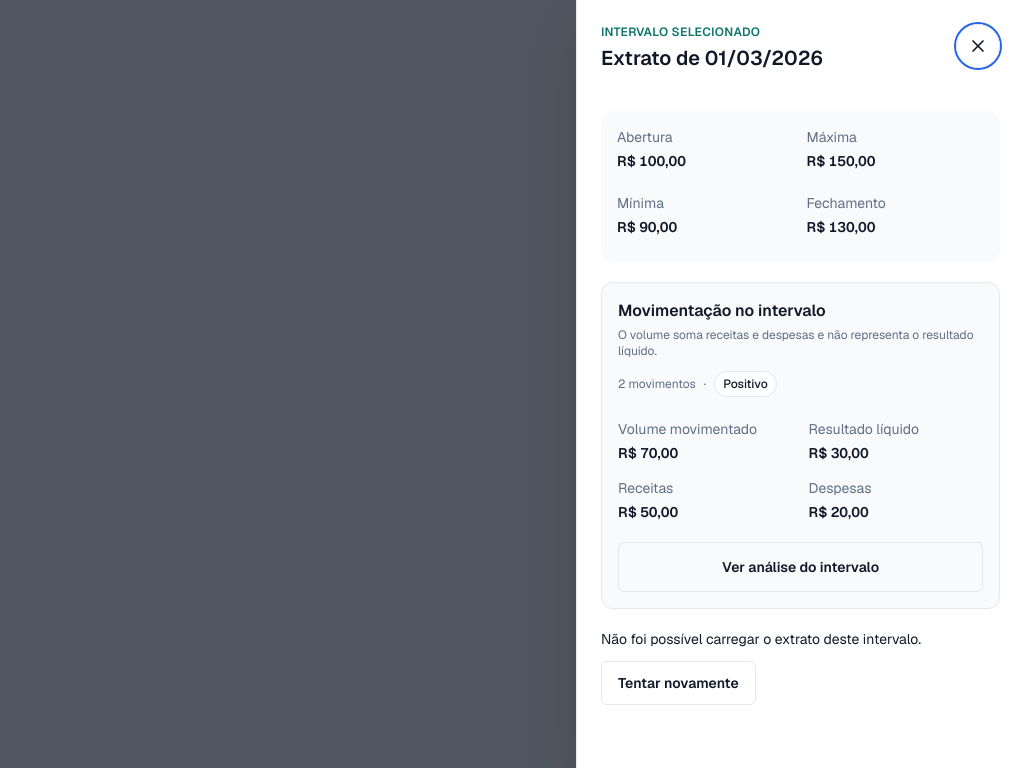
Test: FinancialIntervalStatementPanel › retries an unavailable statement without closing the selected interval
The width and height of the screenshot is (1024, 768).
Expected: the message shows "Não foi possível carregar o extrato deste intervalo.", [601,630,921,648]
Step 1. Click the button "Tentar novamente" → point(678, 683), box [601,661,756,705]
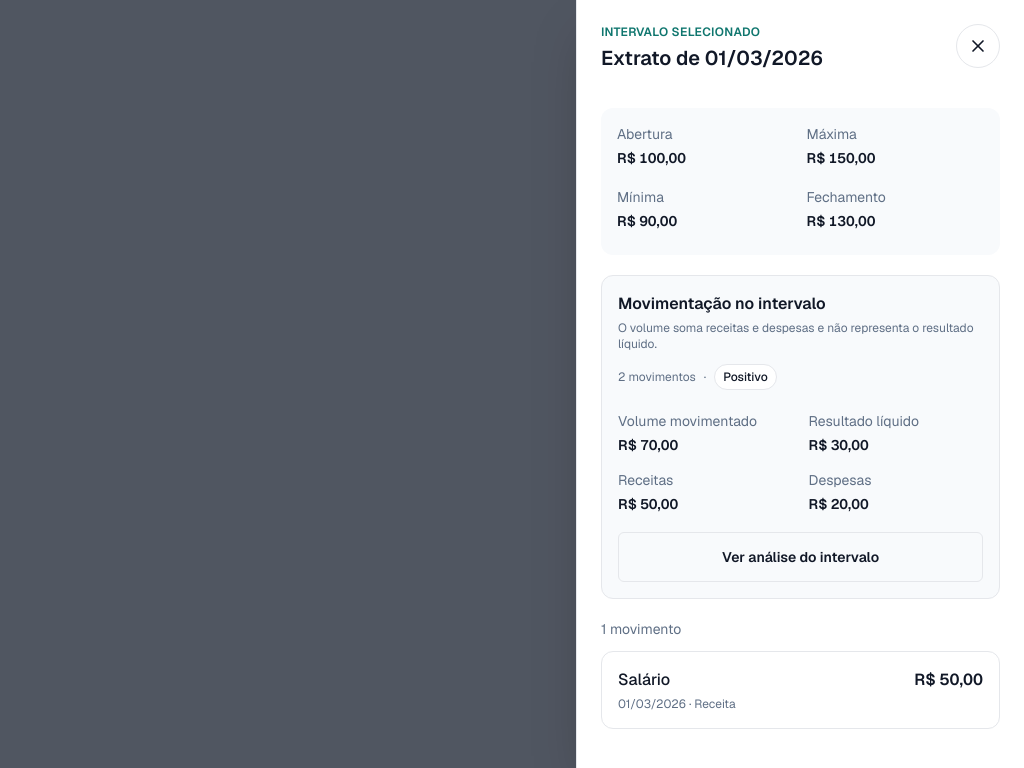
Expected: the dialog "Extrato de 01/03/2026" is shown, [576,0,1023,767]
Result: the text "Salário" is shown at [618,668,670,690]
